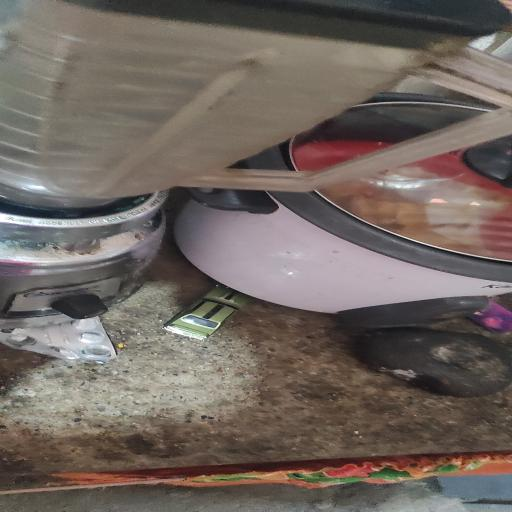Carrito: (163, 284, 250, 340)
